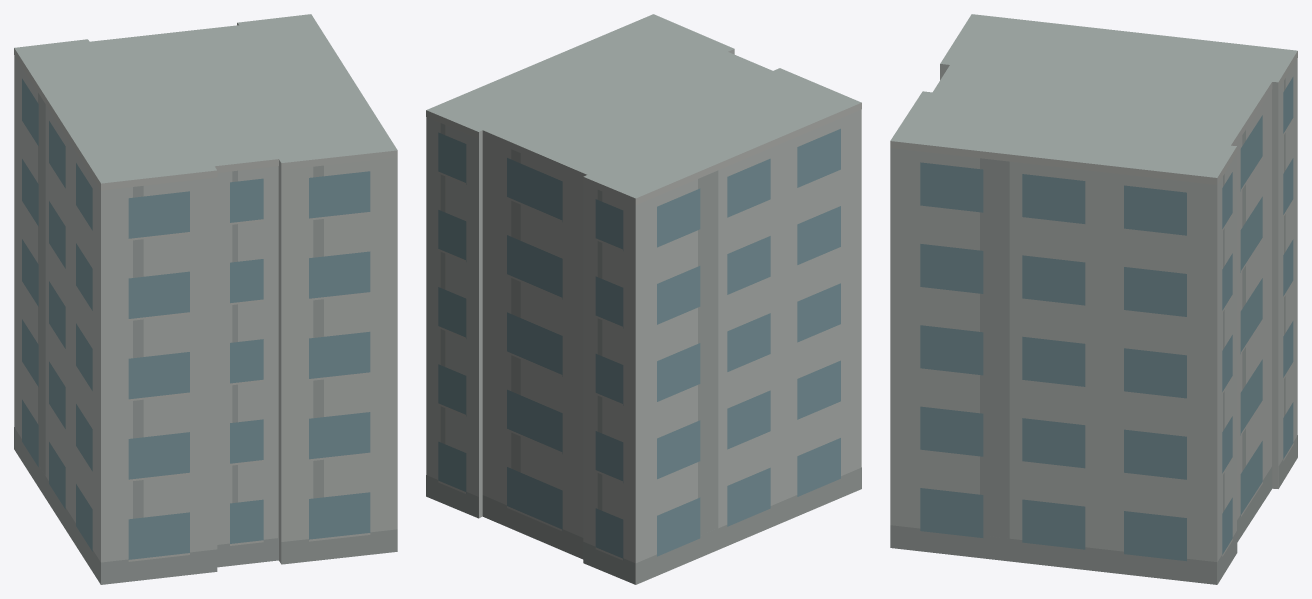
Rendered from survey-upis-32907738.glb.
The picture shows the model from 3 angles, left to right: view 1: azimuth 30°, elevation 25°; view 2: azimuth 150°, elevation 25°; view 3: azimuth 270°, elevation 25°; orthographic projection. The views are drawn at different scales.
Parts seen in each view (by area): view 1: survey-upis-32907738.tmp; view 2: survey-upis-32907738.tmp; view 3: survey-upis-32907738.tmp.
Boxes of the visible parts, bbox=[...] form: survey-upis-32907738.tmp: bbox=[14, 14, 397, 584]; survey-upis-32907738.tmp: bbox=[426, 14, 861, 584]; survey-upis-32907738.tmp: bbox=[890, 14, 1297, 584].
Bounding box in the file's own units: 12.02 × 13.9 × 12.63.
